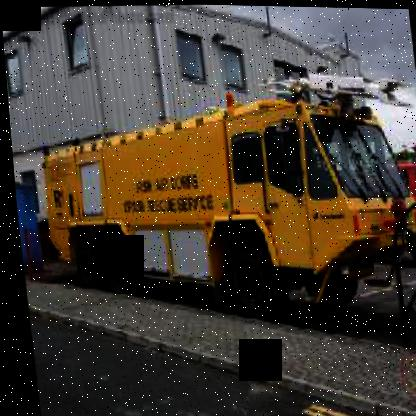emergency: (26, 59, 415, 331)
